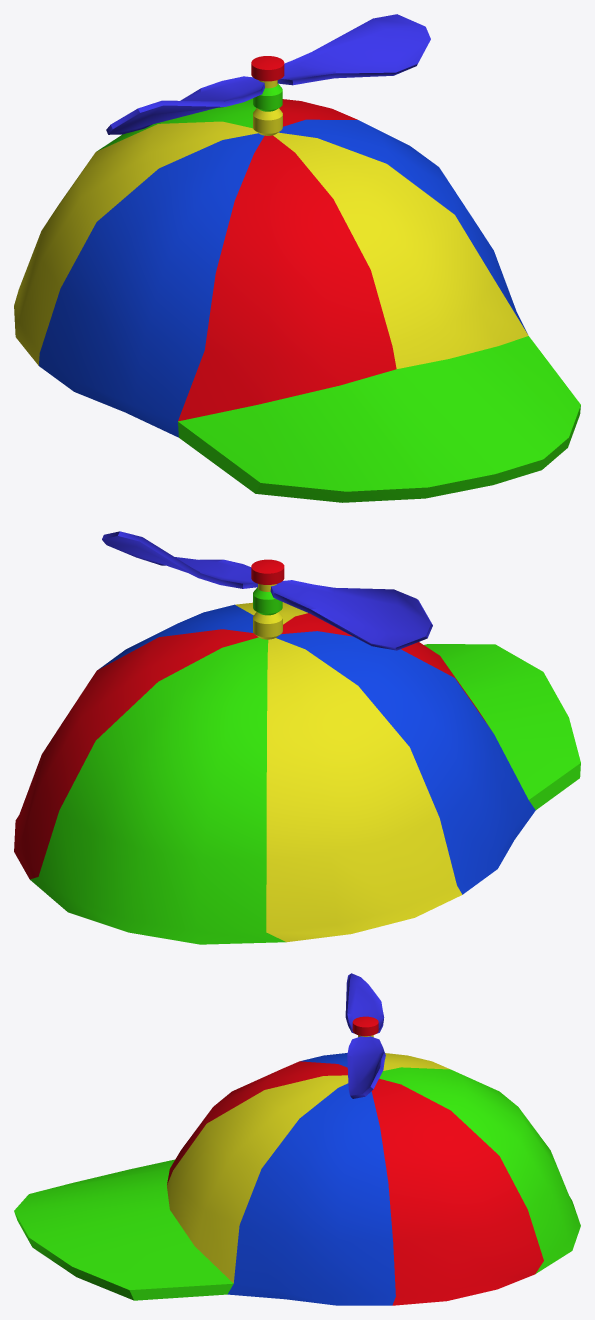
The model's file is CUPropellerHat.fbx.
The picture shows the model from 3 angles, top to bottom: view 1: azimuth 30°, elevation 25°; view 2: azimuth 150°, elevation 25°; view 3: azimuth 270°, elevation 25°; orthographic projection. The views are drawn at different scales.
Visible parts, largest first — view 1: Green, Blue, Yellow, Red, PropellerBlade.002; view 2: Green, Yellow, Blue, Red, PropellerBlade.002; view 3: Green, Red, Blue, Yellow, PropellerBlade.002.
Part boxes in pixels (x1,y1,x2,y2): Green: (96, 84, 580, 502); Blue: (39, 119, 527, 437); Yellow: (14, 80, 528, 368); Red: (178, 56, 396, 421); PropellerBlade.002: (106, 14, 430, 134); Green: (30, 587, 580, 944); Yellow: (235, 584, 462, 942); Blue: (97, 604, 535, 894); Red: (14, 559, 490, 879); PropellerBlade.002: (102, 531, 432, 650); Green: (14, 1067, 580, 1300); Red: (167, 1016, 543, 1305); Blue: (227, 1053, 395, 1305); Yellow: (167, 1035, 450, 1283); PropellerBlade.002: (345, 973, 385, 1098).
Bounding box in the file's own units: 140 × 92.01 × 211.
